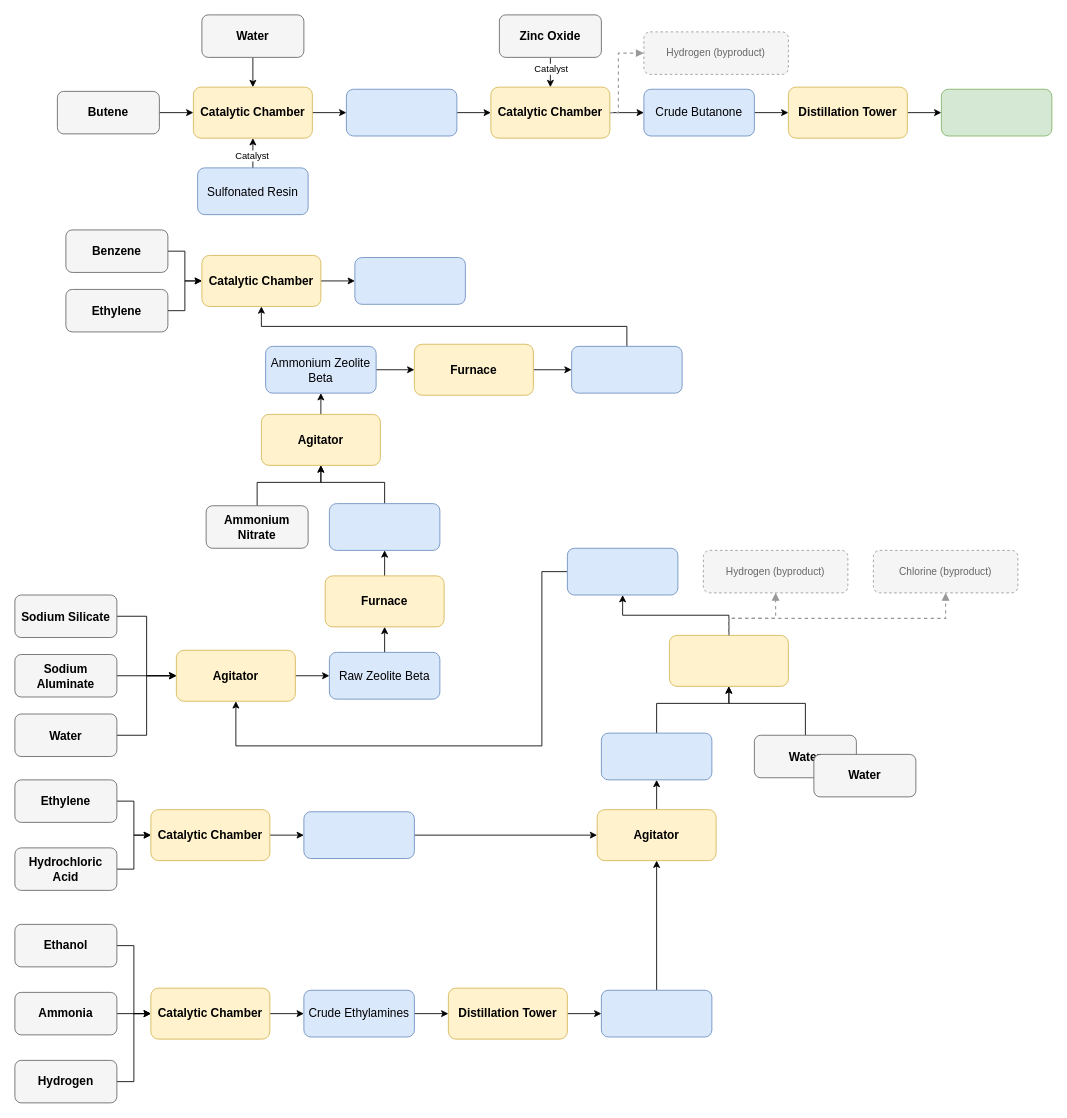
Image size: 1067x1118. Some labels were removed from this diagram. The shapes that lost their labels are listed below. From the top down, each one's box as (x1, y1, x2, y2) in pixels, then its label:
(346, 88, 457, 136): 2-Butanol
(941, 88, 1052, 136): Butanone
(354, 257, 465, 304): Ethylbenzene
(571, 346, 682, 393): H-Beta Zeolite
(329, 503, 440, 550): Sodium Zeolite Beta
(567, 547, 678, 595): Tetraethylammonium Hydroxide
(669, 635, 788, 686): Membrane Electrolyzer
(601, 732, 712, 780): Tetraethylammonium Chloride
(303, 811, 414, 858): Chloroethane
(601, 989, 712, 1037): Triethylamine
